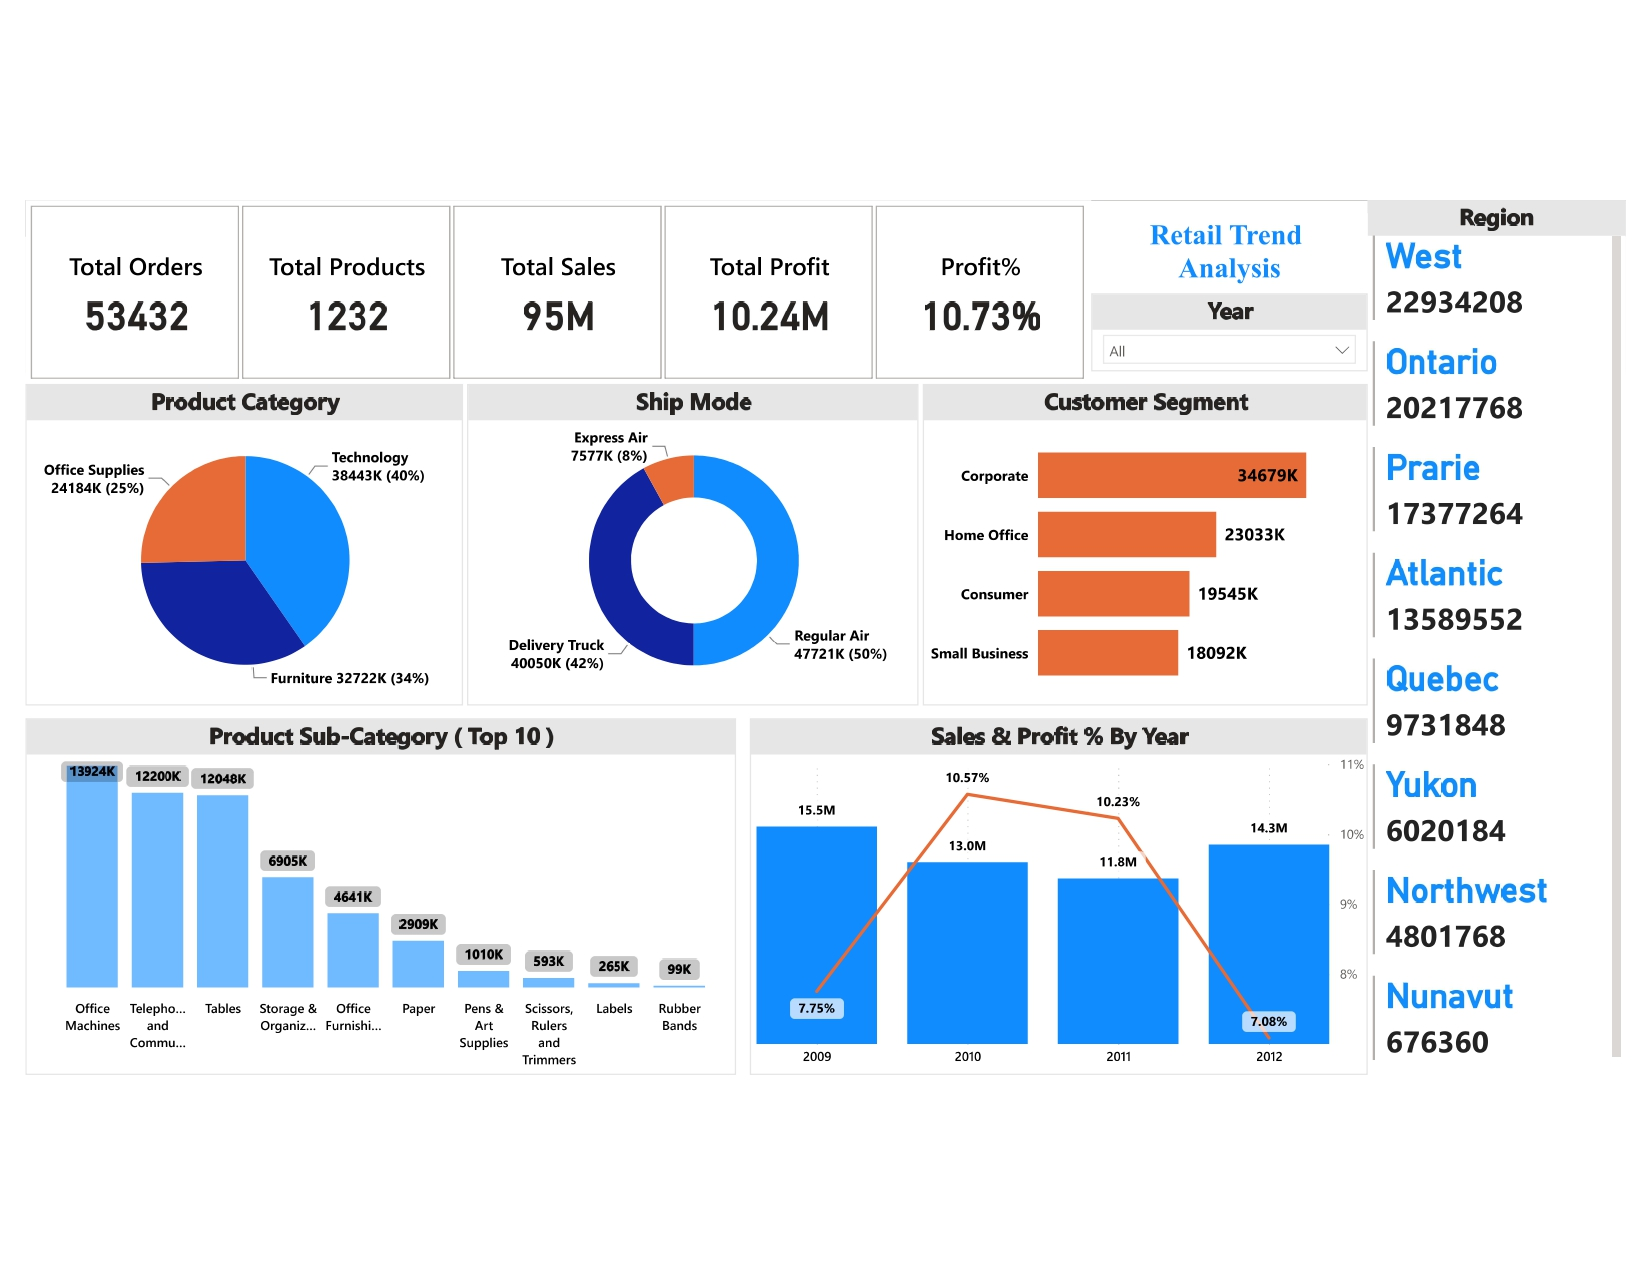

This screenshot's page, from the dashboard's own definition file:
{"tool":"powerbi","page":{"name":"Page 1","canvas":[1500,820],"ordinal":0},"visuals":[{"type":"cardVisual","fields":{"Data":["CountNonNull(Sales_Data.Order ID)","Count(Sales_Data.Product Name)","Sum(Sales_Data.Sales)","Sum(Sales_Data.Profit)","Sales_Data.Profit%"]},"box":[0,0,998.8,172.4],"z":0},{"type":"multiRowCard","title":"Region","fields":{"Values":["Sales_Data.Region","Sum(Sales_Data.Sales)"]},"box":[1258.3,0,241.7,819.3],"z":1000},{"type":"pieChart","title":"Product Category","fields":{"Y":["Sum(Sales_Data.Sales)"],"Category":["Sales_Data.Product Category"]},"box":[0,172.4,410,300.4],"z":2000},{"type":"columnChart","title":"Product Sub-Category ( Top 10 )","fields":{"Category":["Sales_Data.Product Sub-Category"],"Y":["Sum(Sales_Data.Sales)"]},"box":[0,485.2,666.5,334.1],"z":3000},{"type":"donutChart","title":"Ship Mode","fields":{"Y":["Sum(Sales_Data.Sales)"],"Category":["Sales_Data.Ship Mode"]},"box":[414.1,172.4,423,300.4],"z":4000},{"type":"clusteredBarChart","title":"Customer Segment","fields":{"Category":["Sales_Data.Customer Segment"],"Y":["Sum(Sales_Data.Sales)"]},"box":[840.6,172.4,417.7,300.4],"z":5000},{"type":"slicer","title":"Year","fields":{"Values":["Sales_Data.Year"]},"box":[998.8,87.1,259.5,72.9],"z":6000},{"type":"lineStackedColumnComboChart","title":"Sales & Profit % By Year","fields":{"Y":["Sum(Sales_Data.Sales)"],"Category":["Sales_Data.Year"],"Y2":["Sales_Data.Profit%"]},"box":[678.9,485.2,579.4,334.1],"z":7000},{"type":"textbox","box":[998.8,12.3,258.9,74],"z":8000}]}

Visuals, with their boxes on the page's 1500x820 design canvas (x1, y1, x2, y2). These are canvas units, not pixel positions in the 1650x1275 screenshot, which may show the page scaled, cropped or inside an application window:
cardVisual - CountNonNull(Sales_Data.Order ID) x Count(Sales_Data.Product Name): detection(0, 0, 999, 172)
"Region" multiRowCard: detection(1258, 0, 1500, 819)
"Product Category" pieChart: detection(0, 172, 410, 473)
"Product Sub-Category ( Top 10 )" columnChart: detection(0, 485, 666, 819)
"Ship Mode" donutChart: detection(414, 172, 837, 473)
"Customer Segment" clusteredBarChart: detection(841, 172, 1258, 473)
"Year" slicer: detection(999, 87, 1258, 160)
"Sales & Profit % By Year" lineStackedColumnComboChart: detection(679, 485, 1258, 819)
textbox: detection(999, 12, 1258, 86)
